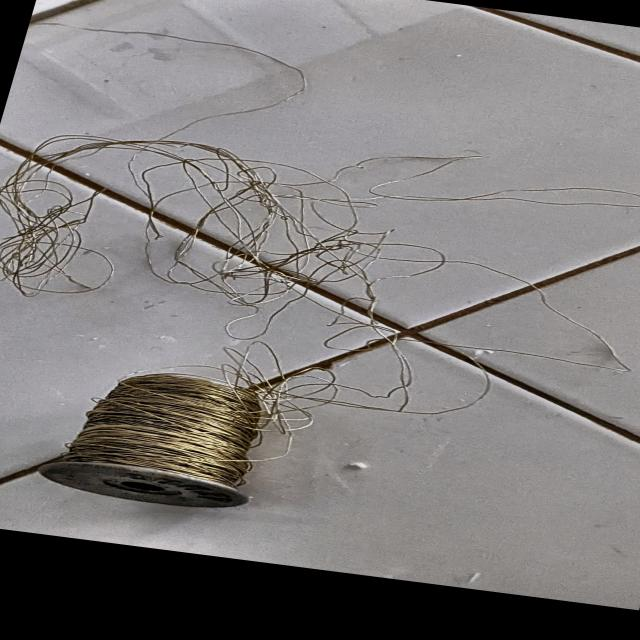Wire Coil: (3, 352, 327, 528)
